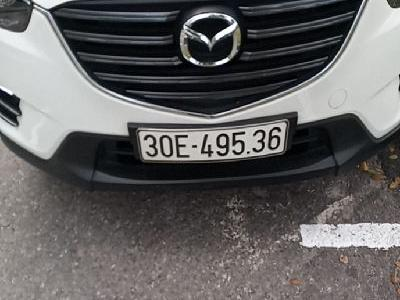lisence: (135, 118, 287, 163)
